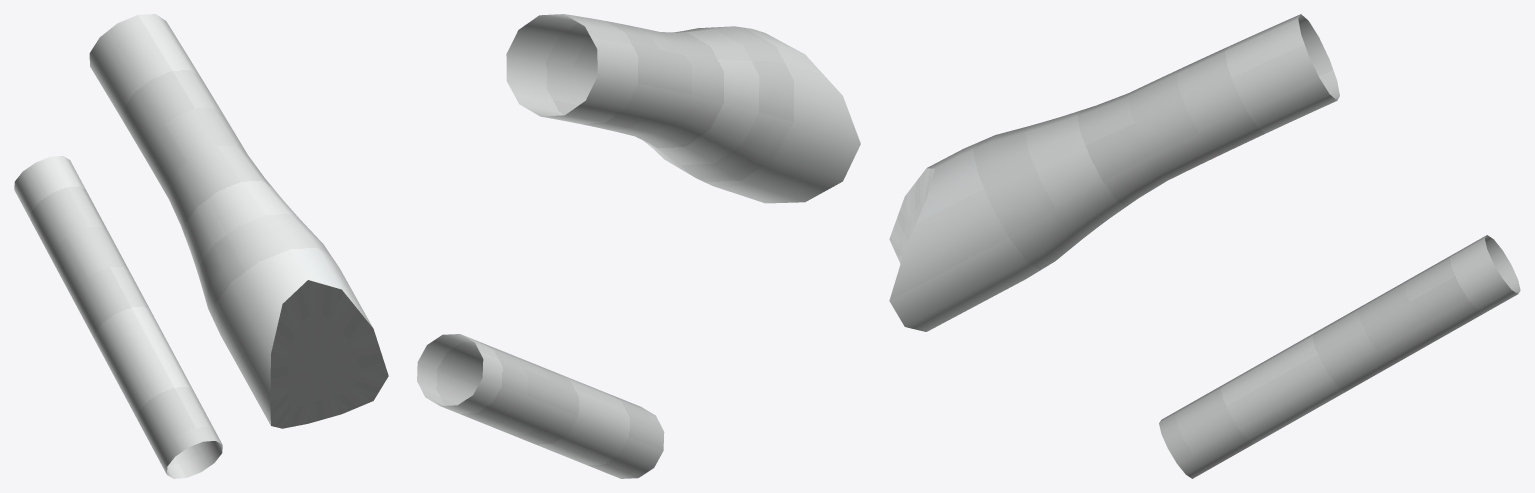
Rendered from luminairearm_truss12ftdouble_c0_pedestal.obj.
The picture shows the model from 3 angles, left to right: view 1: azimuth 30°, elevation 25°; view 2: azimuth 150°, elevation 25°; view 3: azimuth 270°, elevation 25°; orthographic projection. The views are drawn at different scales.
Visible parts, largest first — view 1: luminairearm_truss12ftdouble_c0_pedestal; view 2: luminairearm_truss12ftdouble_c0_pedestal; view 3: luminairearm_truss12ftdouble_c0_pedestal.
Part boxes in pixels (x1=…): luminairearm_truss12ftdouble_c0_pedestal: x1=14, y1=14, x2=388, y2=478; luminairearm_truss12ftdouble_c0_pedestal: x1=417, y1=14, x2=860, y2=478; luminairearm_truss12ftdouble_c0_pedestal: x1=889, y1=14, x2=1520, y2=478.
Size of the model in its own units: 0.3375 by 1.16 by 1.46.
